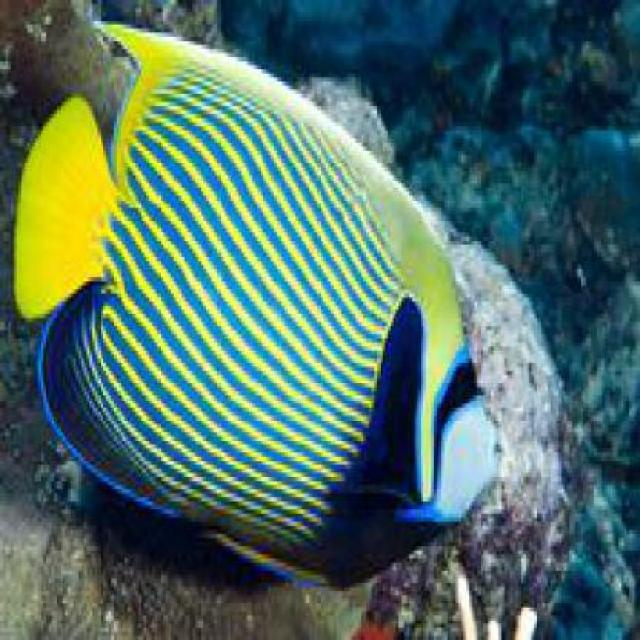AngelFish: (18, 19, 499, 591)
